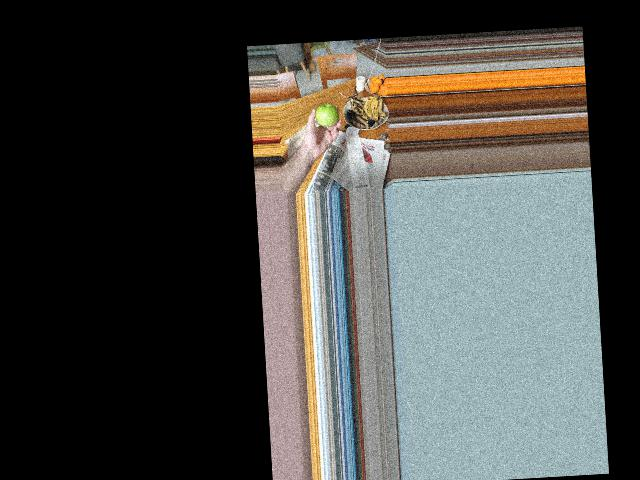apple: (311, 103, 338, 131)
